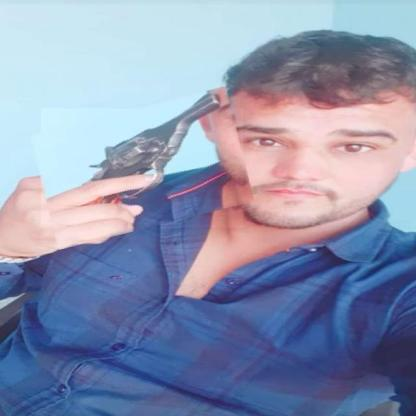handgun: (84, 89, 226, 204)
